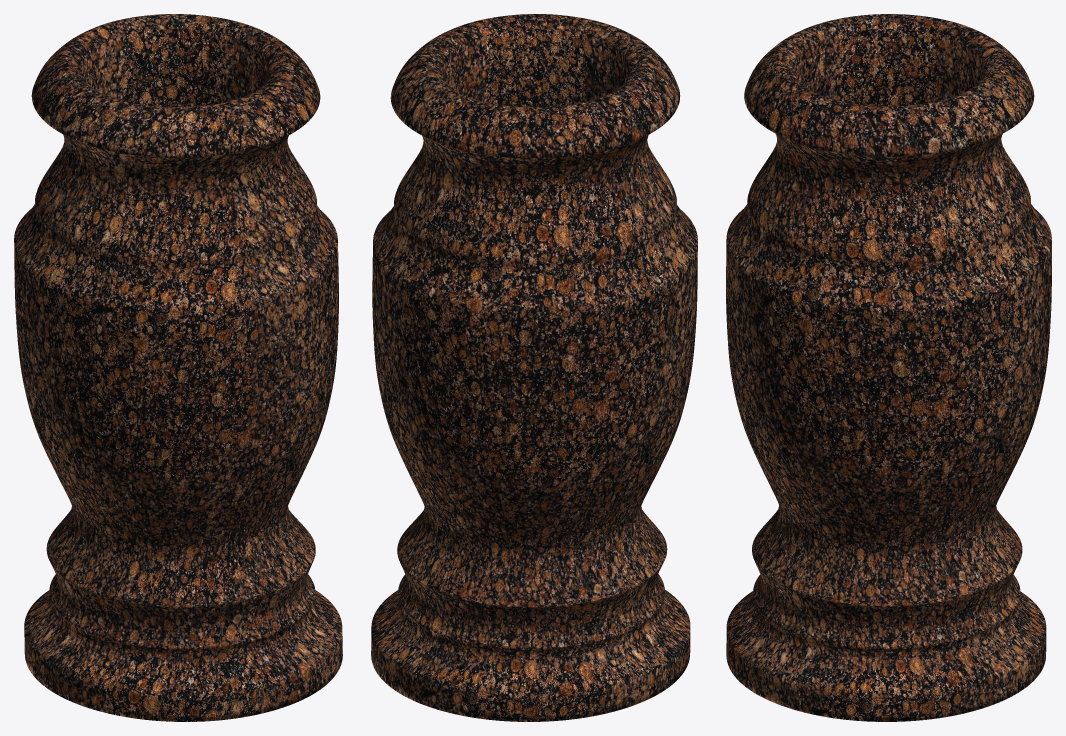
File: Ваза 1 [u_100_orthodox].glb
3 views of the same model, side by side, from view 1: azimuth 30°, elevation 25°; view 2: azimuth 150°, elevation 25°; view 3: azimuth 270°, elevation 25° (orthographic).
Visible parts, largest first — view 1: vaza.002; view 2: vaza.002; view 3: vaza.002.
Boxes of the visible parts, <box> form: vaza.002: <box>14,14,342,721</box>; vaza.002: <box>371,14,697,721</box>; vaza.002: <box>726,14,1051,721</box>.
Size of the model in its own units: 0.1491 by 0.2981 by 0.149.
Materials: 1 (1 with a texture image).
